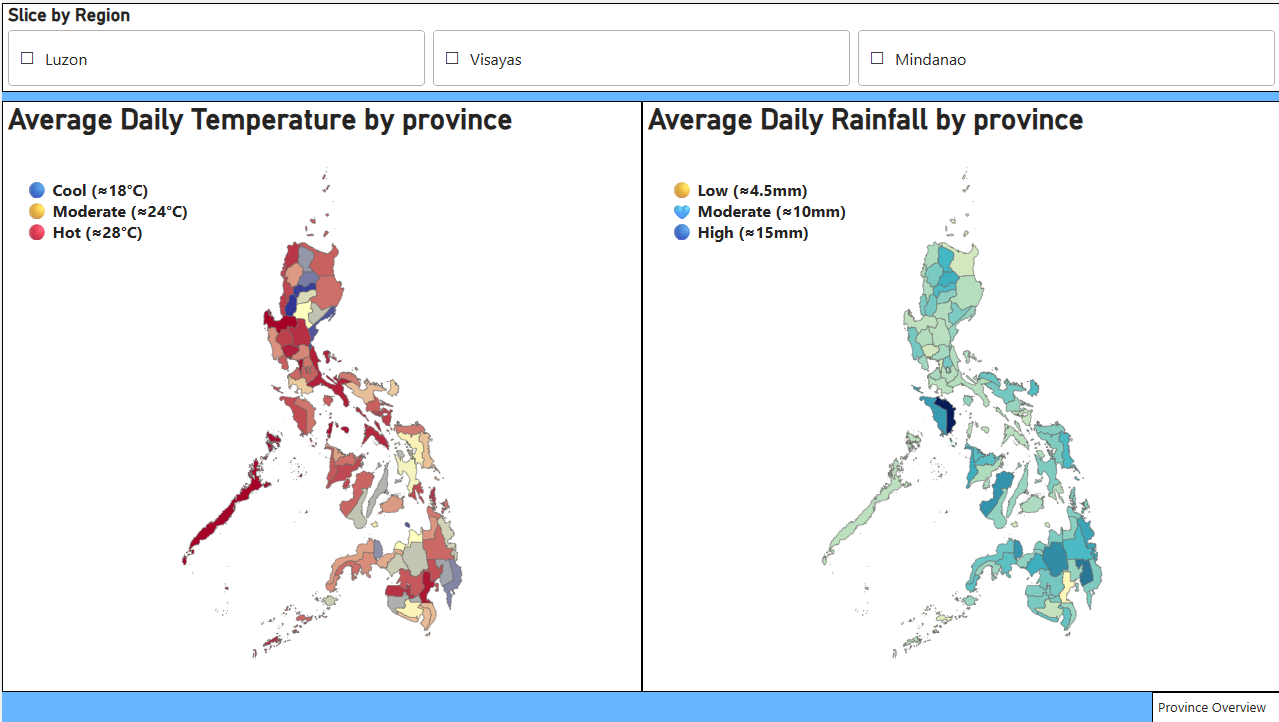

This screenshot's page, from the dashboard's own definition file:
{"tool":"powerbi","page":{"name":"Province Overview","canvas":[1280,720],"ordinal":0},"visuals":[{"type":"shapeMap","fields":{"Category":["mart_province_climate_summary.province"],"Value":["Avg(mart_province_climate_summary.avg_daily_temp)"]},"box":[0,98,640,591],"z":0},{"type":"shapeMap","fields":{"Category":["mart_province_climate_summary.province"],"Value":["Sum(mart_province_climate_summary.avg_daily_rain)"]},"box":[640,98,640,591],"z":1000},{"type":"textbox","box":[664.4,171.1,207.8,112.2],"z":2000},{"type":"textbox","box":[18.9,171.1,173.3,115.6],"z":3000},{"type":"advancedSlicerVisual","title":"Slice by Region","fields":{"Values":["mart_province_climate_summary.region"]},"box":[0,0,1280,88.9],"z":4000},{"type":"textbox","box":[1150,689,130,31],"z":5000}]}

Visuals, with their boxes in screenshot pixels (x1, y1, x2, y2), scaled from the page's 1280x720 canvas onto the 1279x722 screenshot:
shapeMap - mart_province_climate_summary.province x Avg(mart_province_climate_summary.avg_daily_temp): select_region(0, 98, 640, 691)
shapeMap - mart_province_climate_summary.province x Sum(mart_province_climate_summary.avg_daily_rain): select_region(640, 98, 1278, 691)
textbox: select_region(664, 172, 872, 284)
textbox: select_region(19, 172, 192, 287)
"Slice by Region" advancedSlicerVisual: select_region(0, 0, 1278, 89)
textbox: select_region(1149, 691, 1278, 721)
